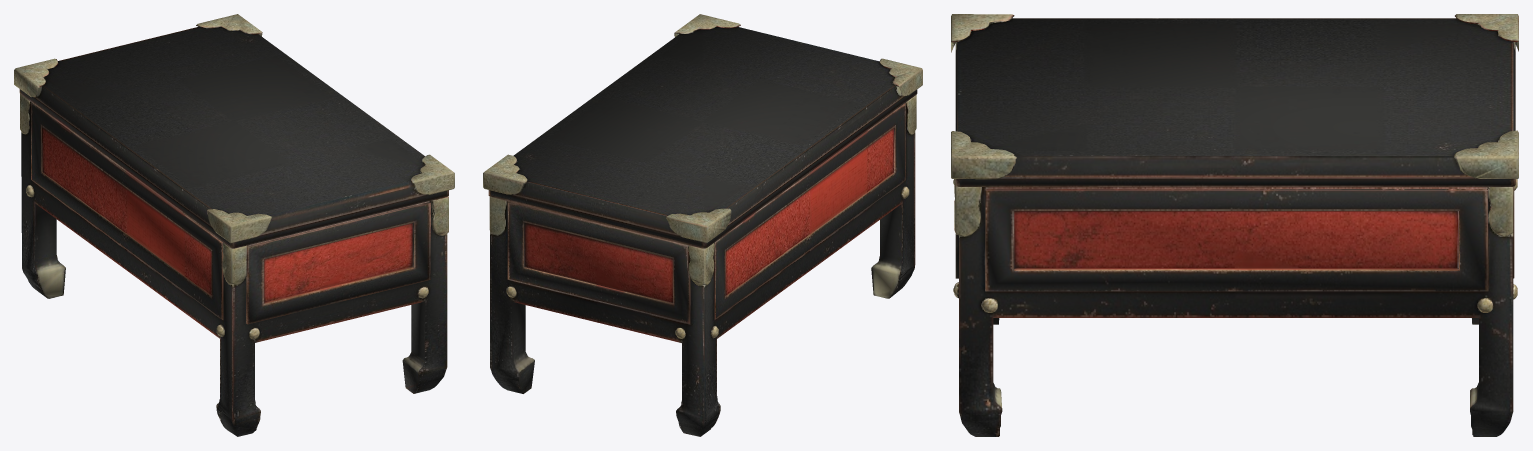
The model's file is tripo_convert_530634dc-f217-4b5b-bc64-abf74ec74ddc.fbx.
3 views of the same model, side by side, from view 1: azimuth 30°, elevation 25°; view 2: azimuth 150°, elevation 25°; view 3: azimuth 270°, elevation 25° (orthographic). The views are drawn at different scales.
Visible parts, largest first — view 1: tripo_node_530634dc; view 2: tripo_node_530634dc; view 3: tripo_node_530634dc.
Part boxes in pixels (x1,y1,x2,y2): tripo_node_530634dc: (14, 14, 454, 436); tripo_node_530634dc: (483, 14, 922, 436); tripo_node_530634dc: (951, 14, 1518, 436).
Size of the model in its own units: 0.5996 by 0.5645 by 0.998.
1 material, 1 textured.
